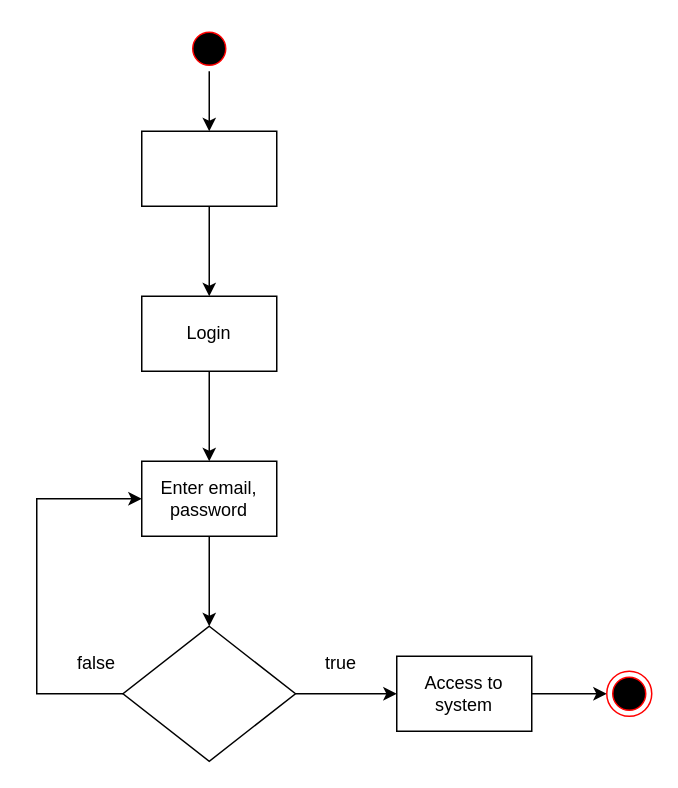
The diagram is 678 pixels wide and 788 high, and some of its shapes have lost their labels. Each missing label, with the centre of its shape:
"email, password validation" belongs at pixel 209 693.
"Open website" belongs at pixel 208 168.
